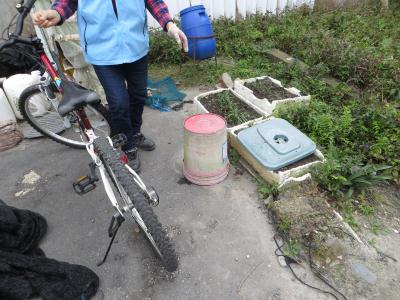bucket: (181, 111, 231, 189), (178, 2, 221, 61)
plate: (237, 118, 317, 171)
styrofoam: (192, 85, 278, 133), (230, 72, 314, 117)
